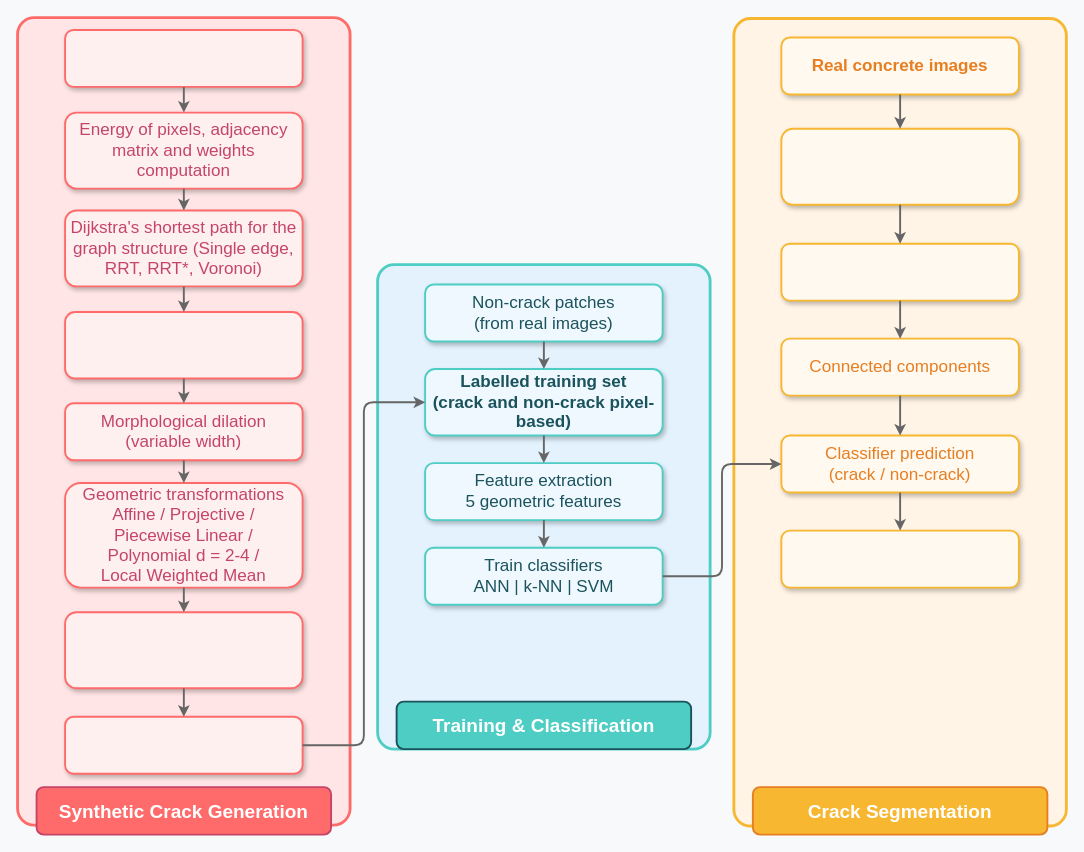
Some shapes in this 1084 by 852 pixel diagram are drawn without their labels. The centre of each missing label's shape, as x and y in pixels:
"Binarization (Otsu threshold)" belongs at (900,273).
"Crack detection filters MFAT | Vesselness | Morphological" belongs at (900,168).
"Elastic deformation (Random displacement + Gaussian smoothing)" belongs at (184,651).
"Final crack map" belongs at (900,560).
"Random noise image (uniform / Gaussian)" belongs at (184,59).
"Synthetic crack images" belongs at (184,746).
"Synthetic crack strands generation (1-pixel skeleton)" belongs at (184,346).
